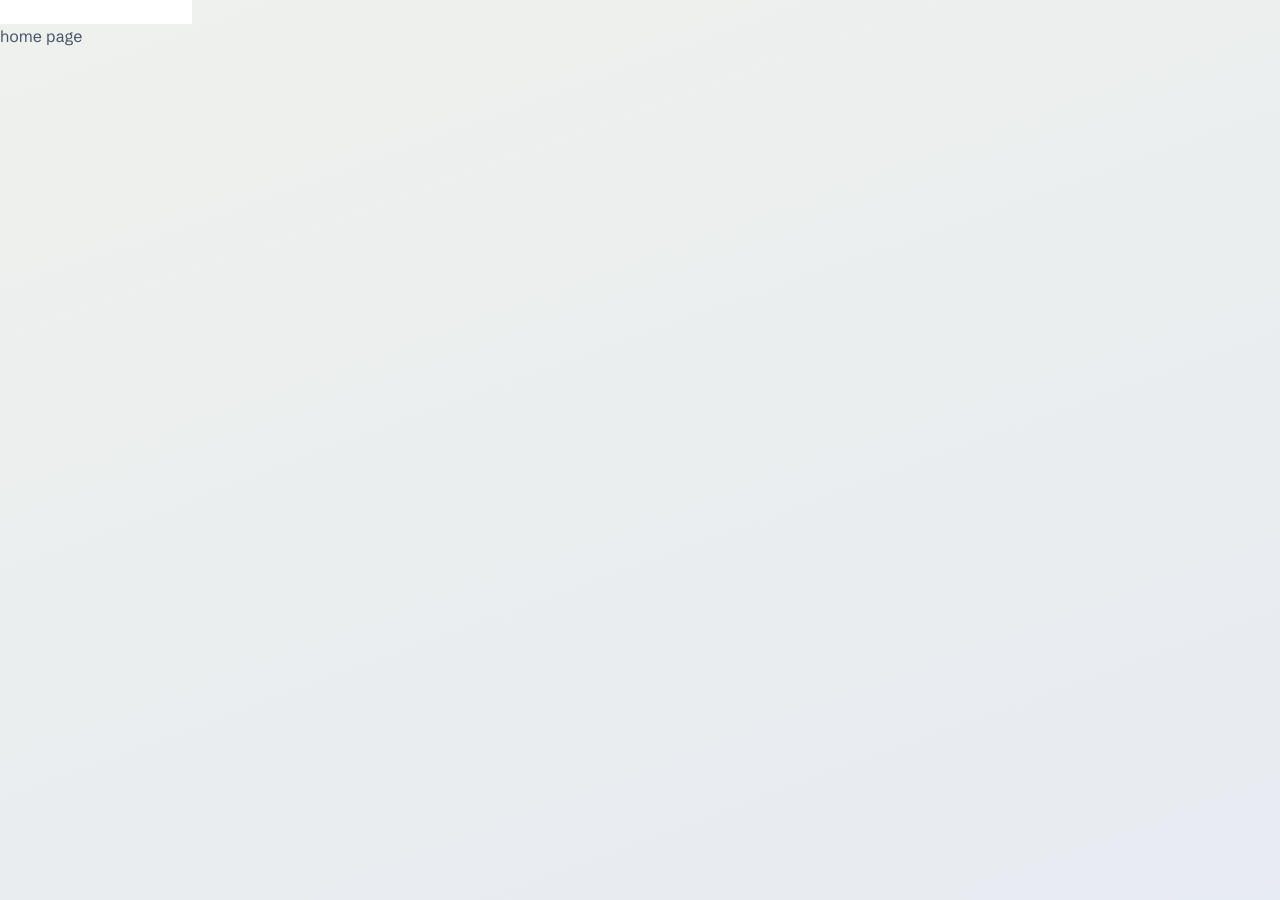
CommandPalette › fuzzy-filters features and docs
Step 1. Type keys "{Meta>}k{/Meta}"
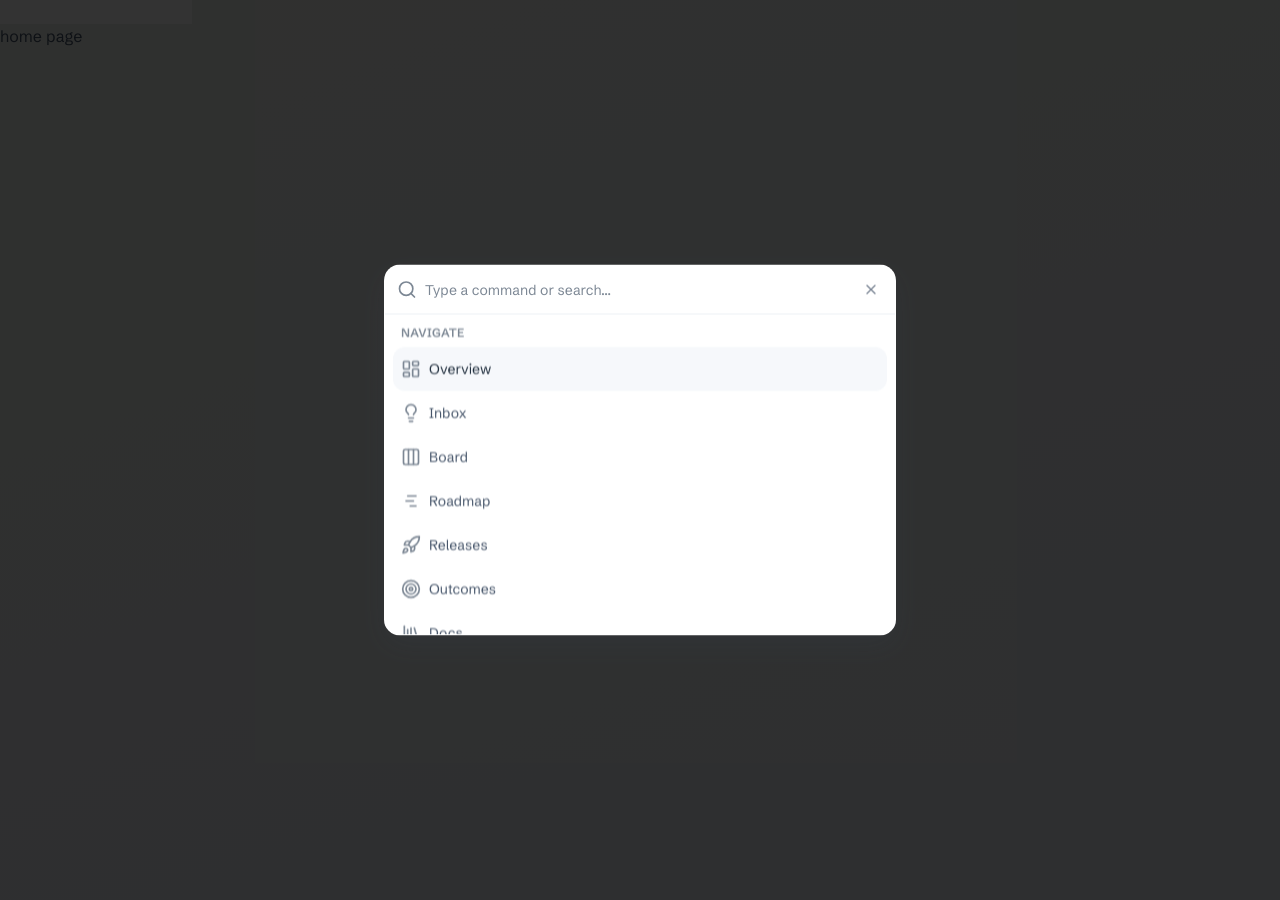
Step 2. Type "gantt" into the dropdown with placeholder "Type a command or search…" → x=654, y=290, box x1=425 y1=266 x2=883 y2=314
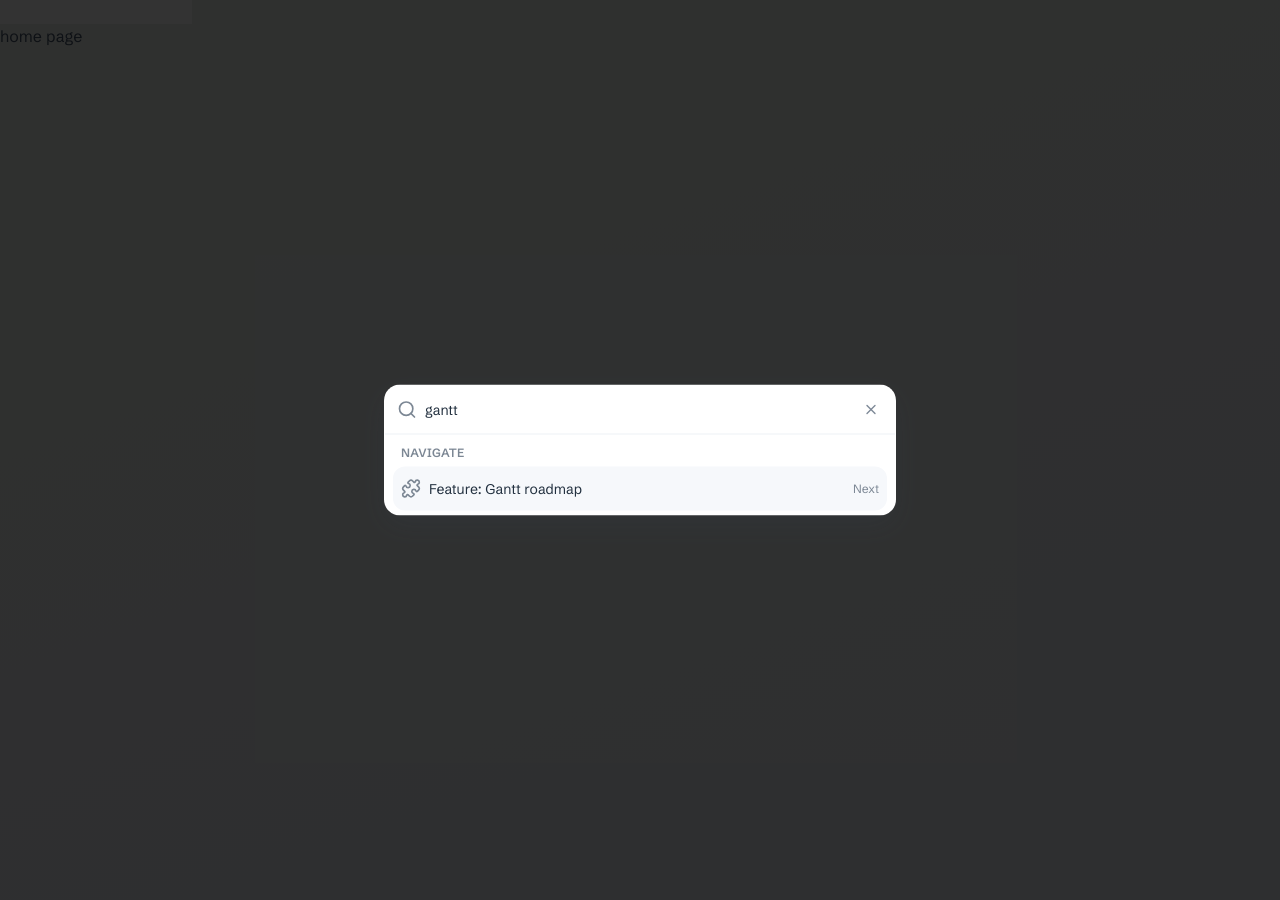
Expected: the text "Feature: Rich markdown editor" is not shown
Expected: the text "Feature: Gantt roadmap" is shown, x1=429 y1=478 x2=582 y2=498
Step 3. Clear the dropdown with placeholder "Type a command or search…" → x=654, y=410, box x1=425 y1=386 x2=883 y2=434
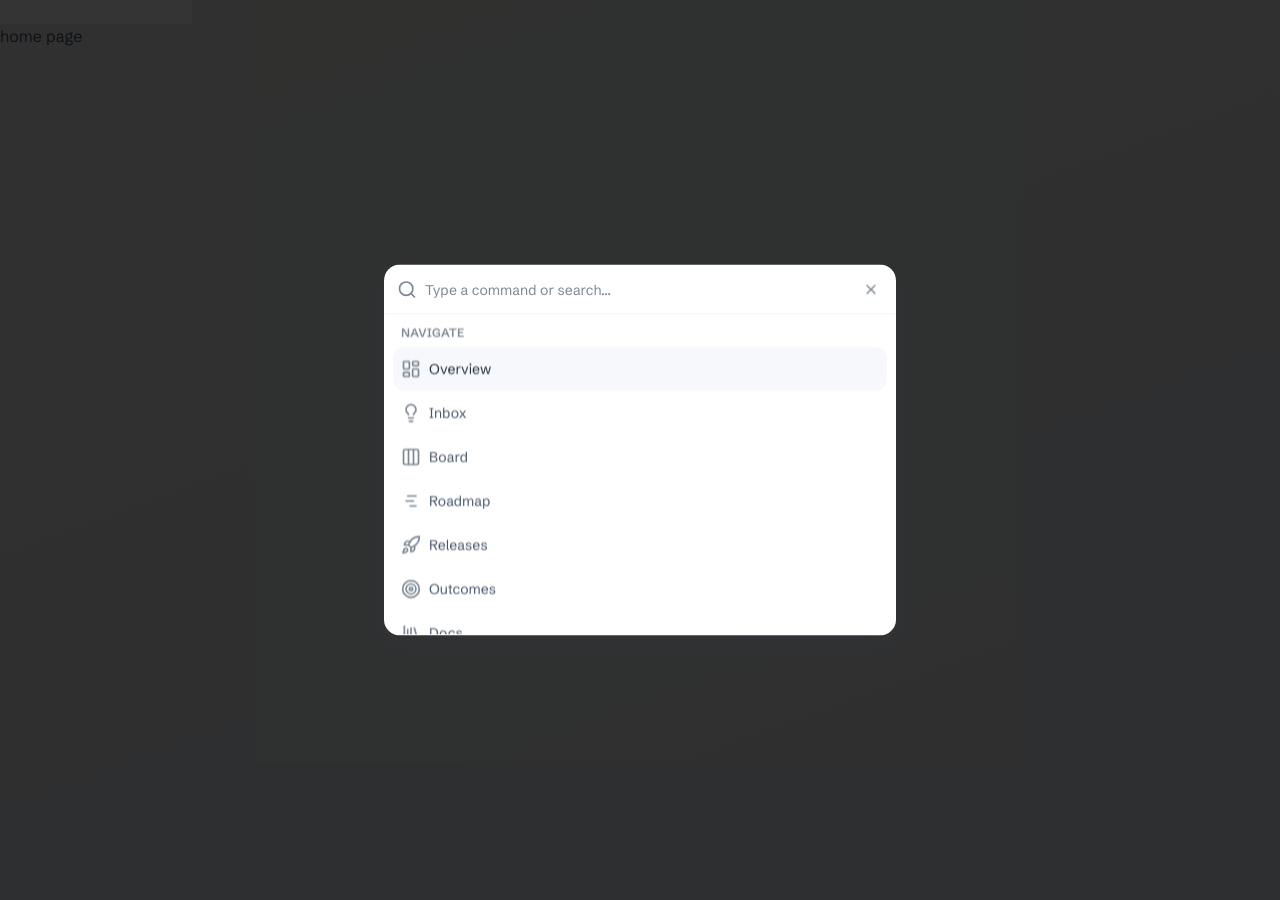
Step 4. Type "prd" into the dropdown with placeholder "Type a command or search…" → x=654, y=290, box x1=425 y1=266 x2=883 y2=314
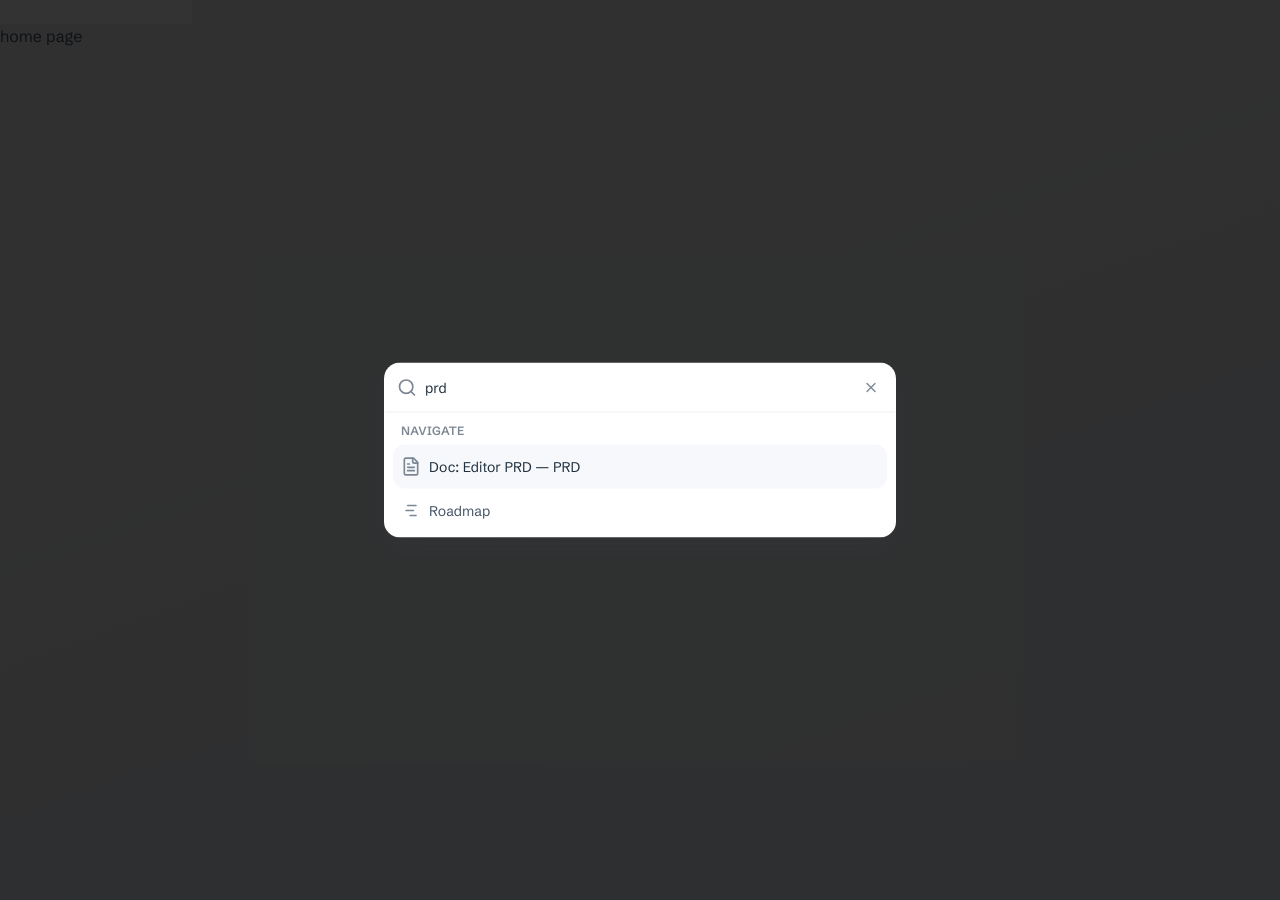
Expected: the option "Feature: Gantt roadmap" is not shown
Expected: the text "Doc: Editor PRD — PRD" is shown, x1=429 y1=456 x2=580 y2=476
